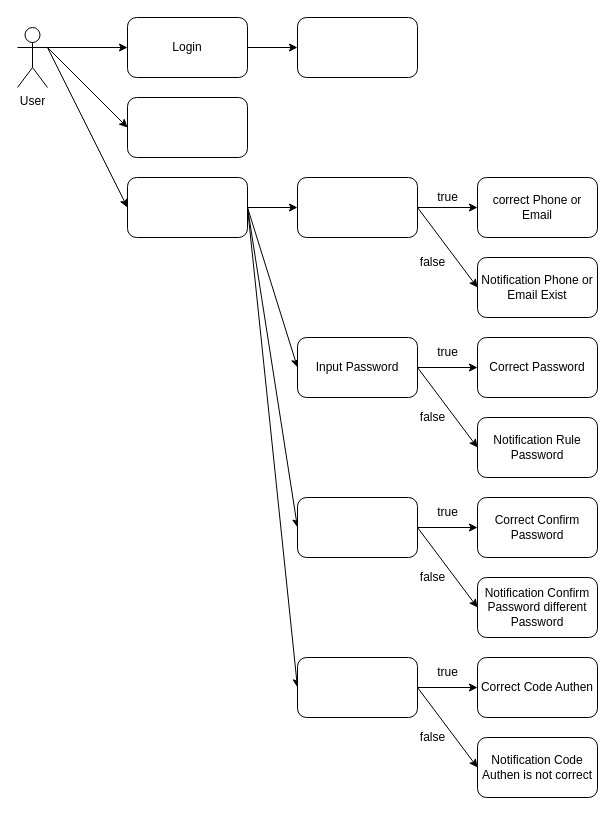
The diagram is 615 pixels wide and 815 high, and some of its shapes have lost their labels. Each missing label, with the centre of its shape:
"Authentication" goes at [357,47].
"Input Code Authen" goes at [357,687].
"Input Confirm Password" goes at [357,527].
"Input Phone or Email" goes at [357,207].
"Logout" goes at [187,127].
"Sign on" goes at [187,207].
